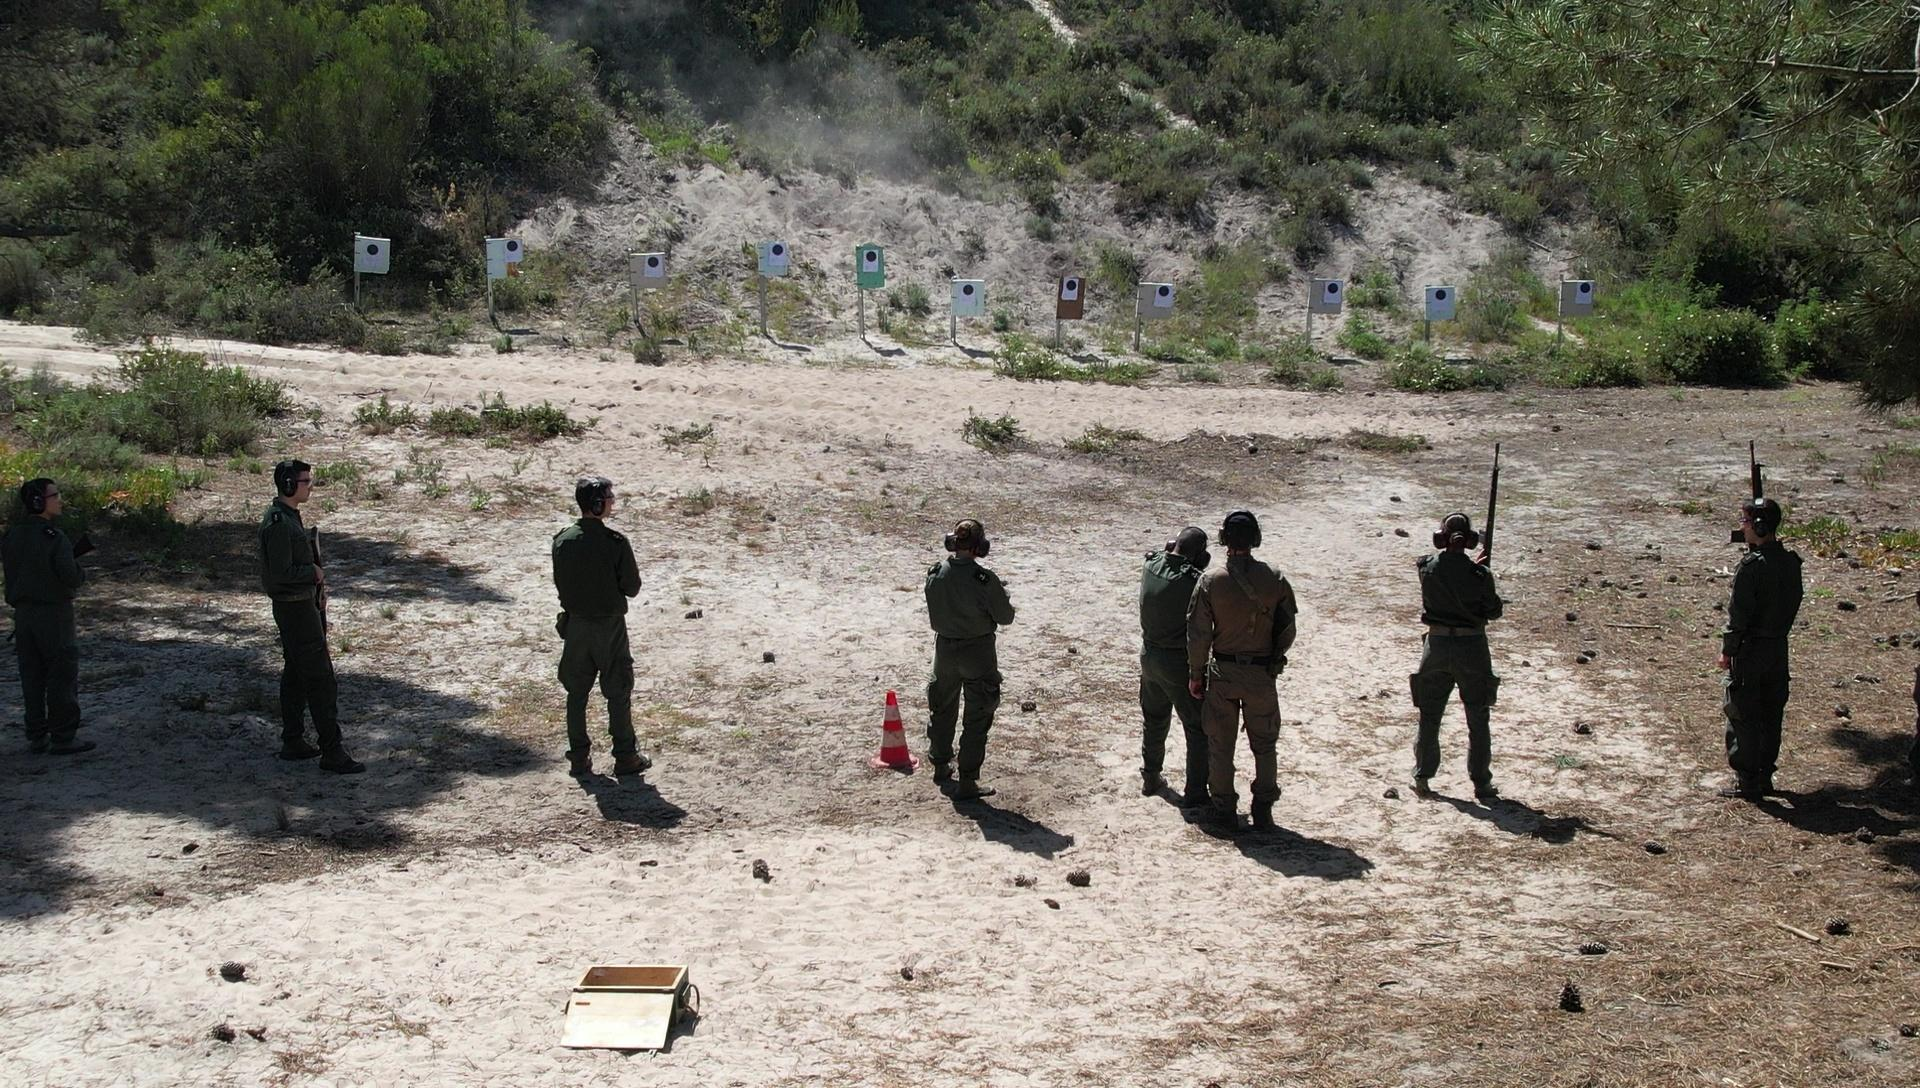Soldier: (229, 437, 386, 789), (517, 459, 677, 797), (1690, 433, 1810, 805), (1182, 499, 1305, 844), (1411, 446, 1513, 819), (0, 458, 110, 775), (917, 499, 1024, 820), (1124, 512, 1210, 807)
